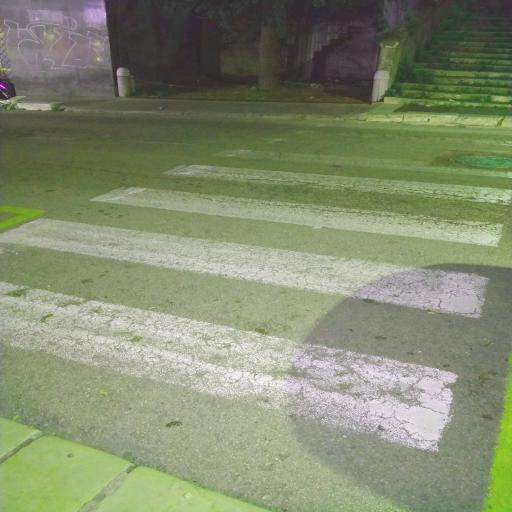crosswalk: (0, 182, 508, 326)
